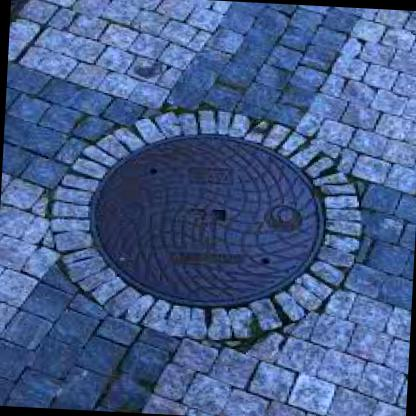manholes: (20, 80, 388, 380)
